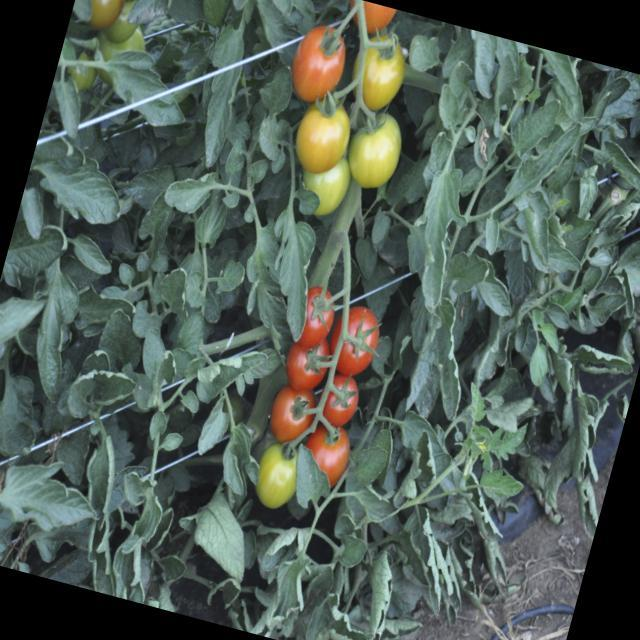TOMATO: (287, 90, 358, 182), (342, 102, 411, 187), (282, 26, 351, 110), (244, 441, 308, 516), (348, 33, 410, 110), (296, 154, 358, 228), (262, 384, 325, 449), (300, 418, 354, 489), (286, 282, 340, 352), (338, 300, 388, 366), (320, 365, 366, 436), (278, 337, 326, 396), (76, 0, 134, 35), (347, 0, 399, 38)
